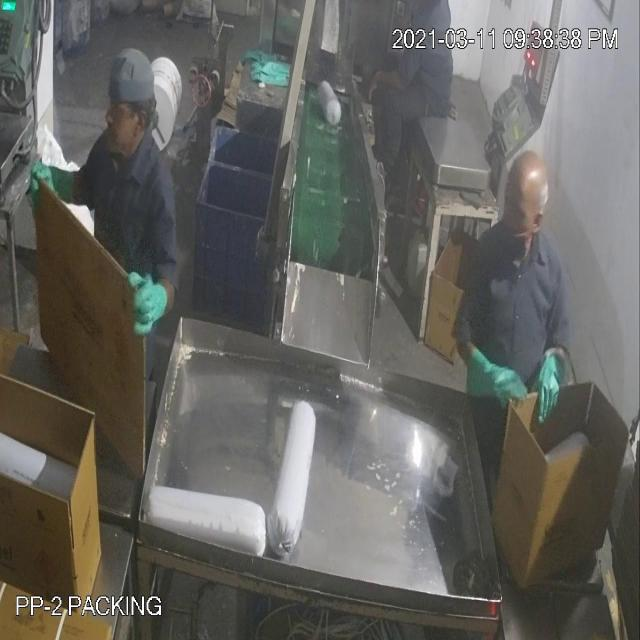gloves: (462, 332, 528, 421), (530, 332, 567, 438)
no-gloves: (363, 51, 408, 108)
